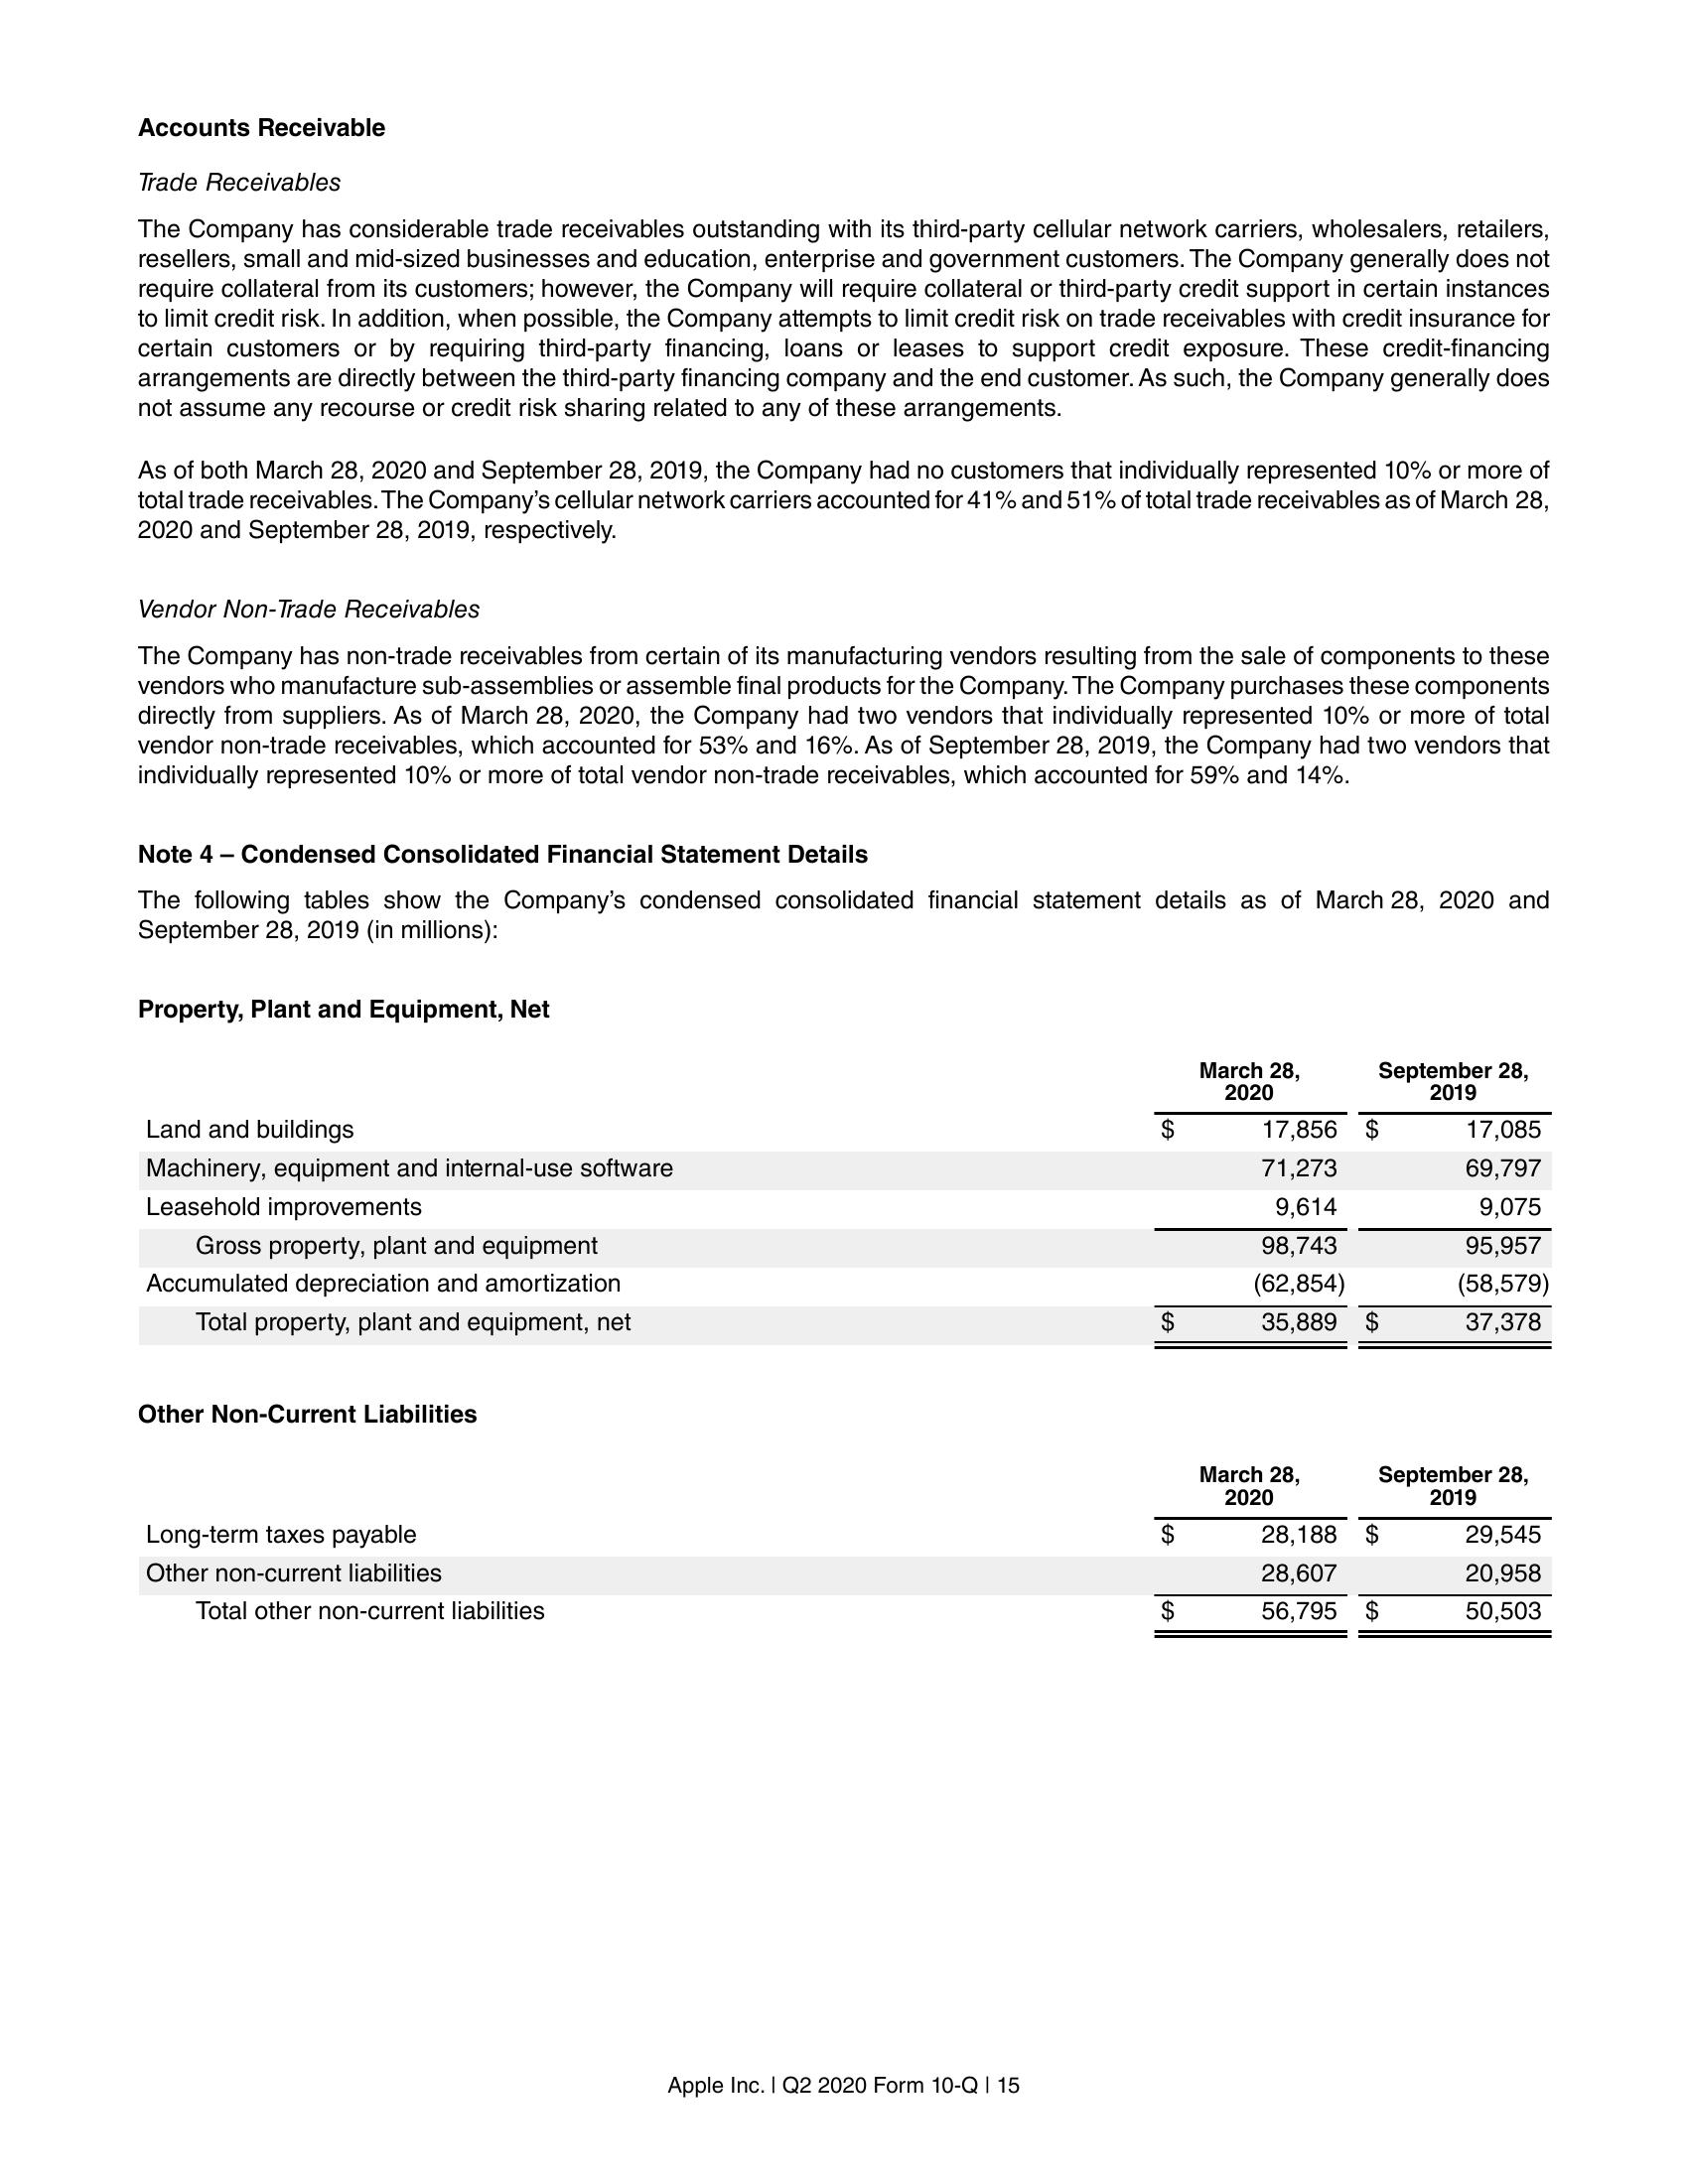table: (135, 1048, 1557, 1358), (135, 1461, 1559, 1645)
